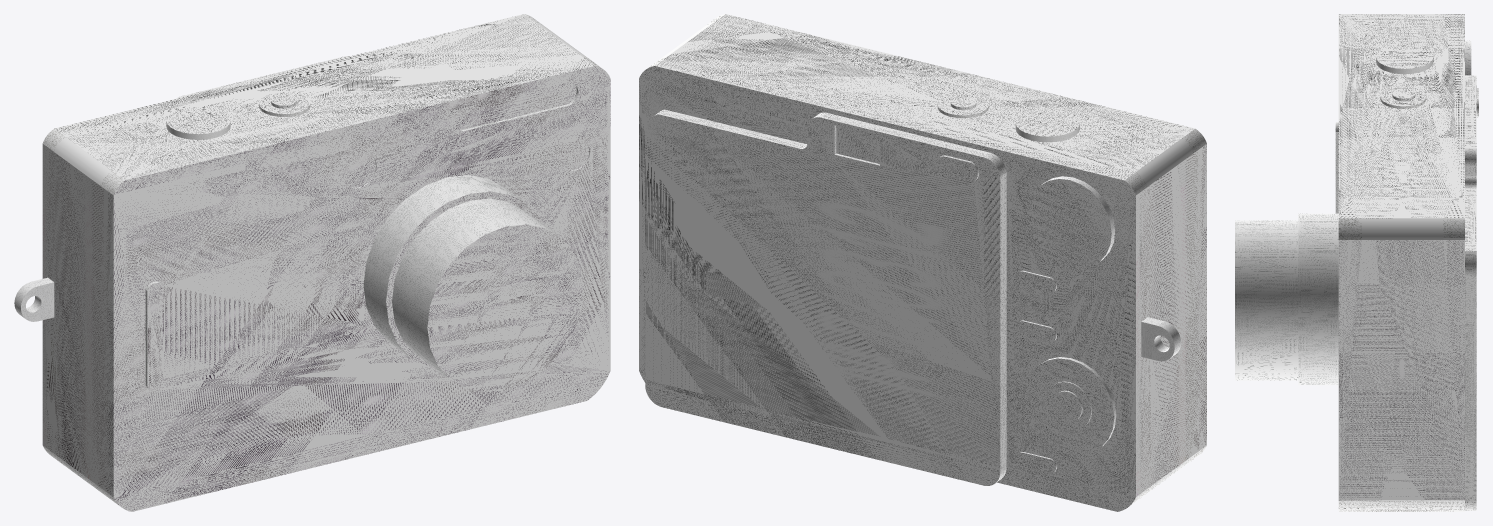
File: model_align.obj
3 views of the same model, side by side, from view 1: azimuth 30°, elevation 25°; view 2: azimuth 150°, elevation 25°; view 3: azimuth 270°, elevation 25° (orthographic). The views are drawn at different scales.
Parts seen in each view (by area): view 1: mesh1_mesh1-geometry; view 2: mesh1_mesh1-geometry; view 3: mesh1_mesh1-geometry.
Boxes of the visible parts, left/top/right/bottom form: mesh1_mesh1-geometry: left=14, top=14, right=610, bottom=511; mesh1_mesh1-geometry: left=639, top=14, right=1206, bottom=511; mesh1_mesh1-geometry: left=1235, top=14, right=1478, bottom=511.
Bounding box in the file's own units: 0.1225 × 0.0748 × 0.0547.
